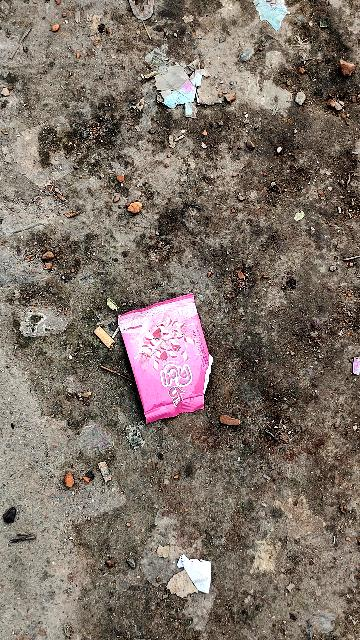packet: (119, 298, 217, 437)
